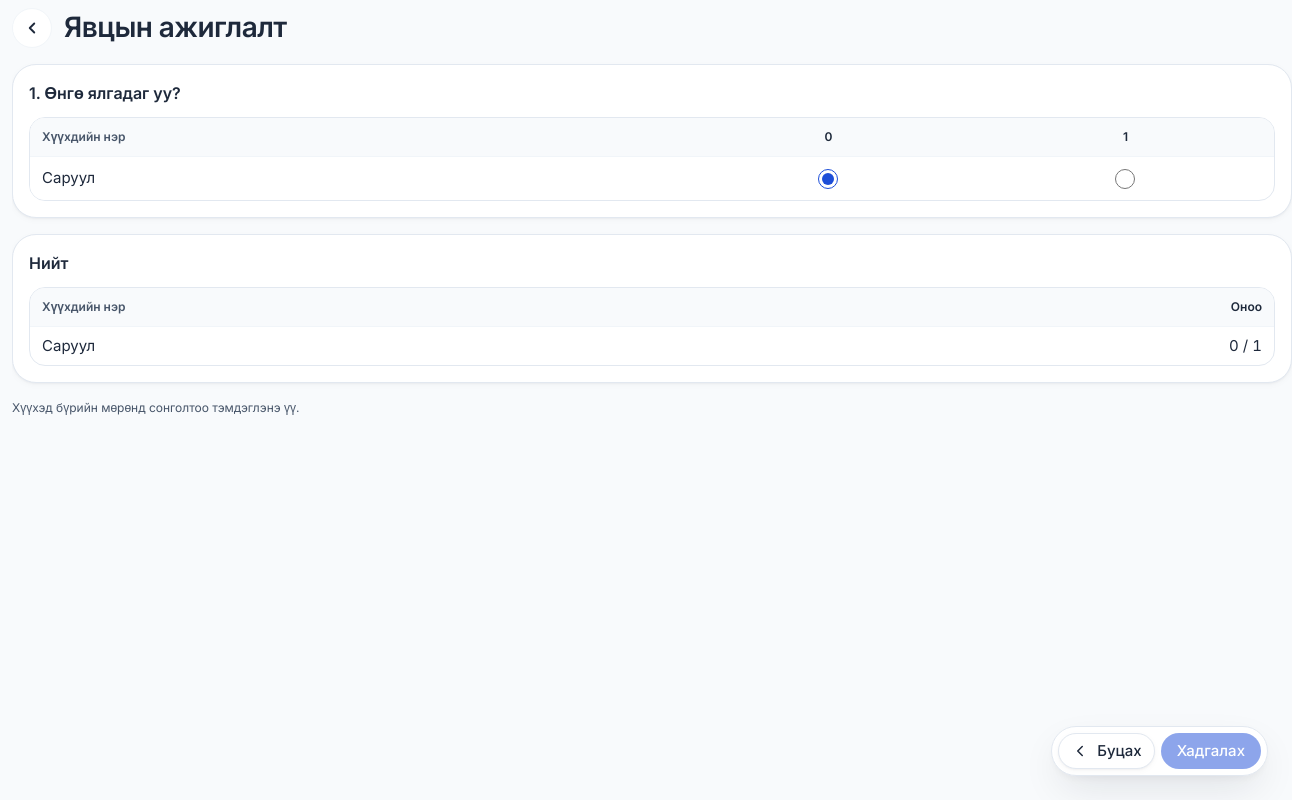
Test case: filling the whole group as one table › will not turn a recorded response back into a half-done row
// Clicking the chosen answer again clears it.
Click the radio button named "Саруул: 0" at (828, 179), box left=818, top=169, right=838, bottom=189
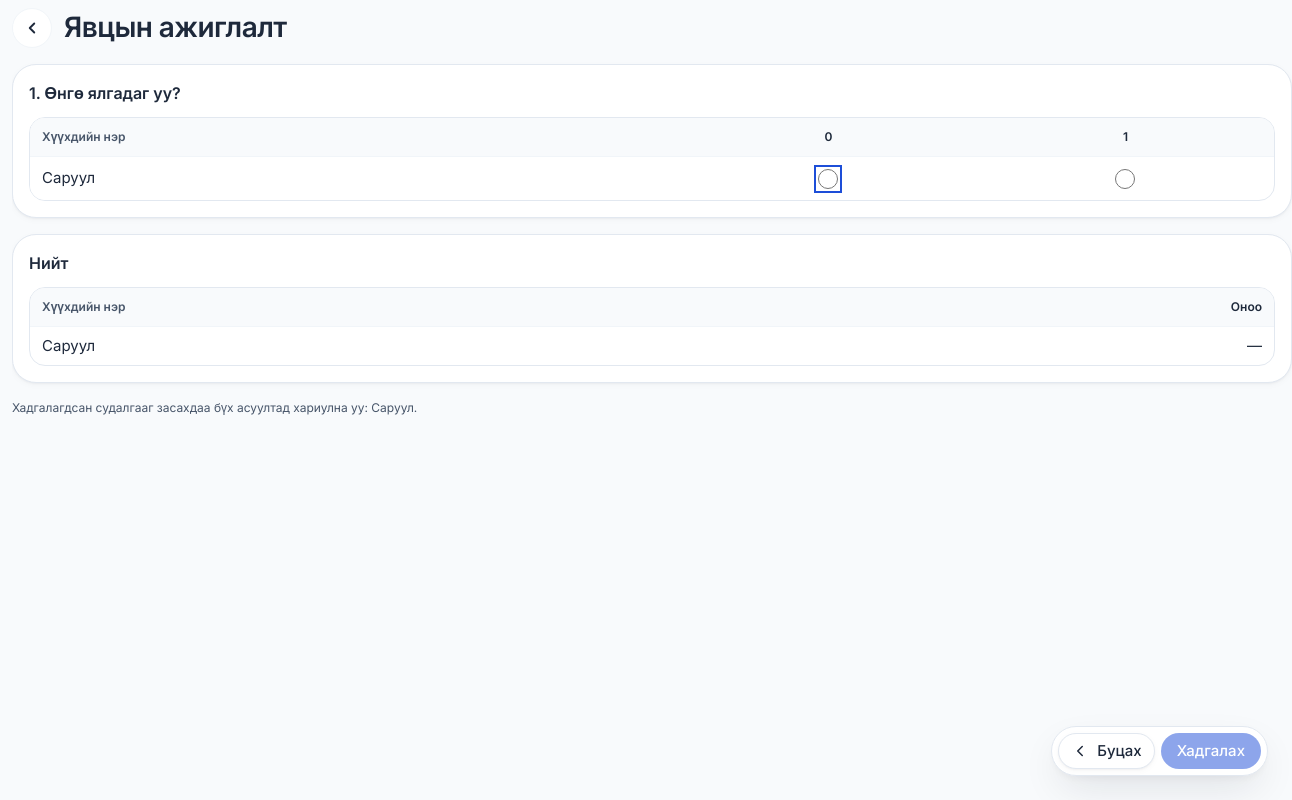
Expected: the button "Хадгалах" is disabled, left=1161, top=733, right=1261, bottom=769
Expected: the text "Хадгалагдсан судалгааг засахдаа бүх асуултад хариулна уу: Саруул." is shown, left=12, top=400, right=417, bottom=415
